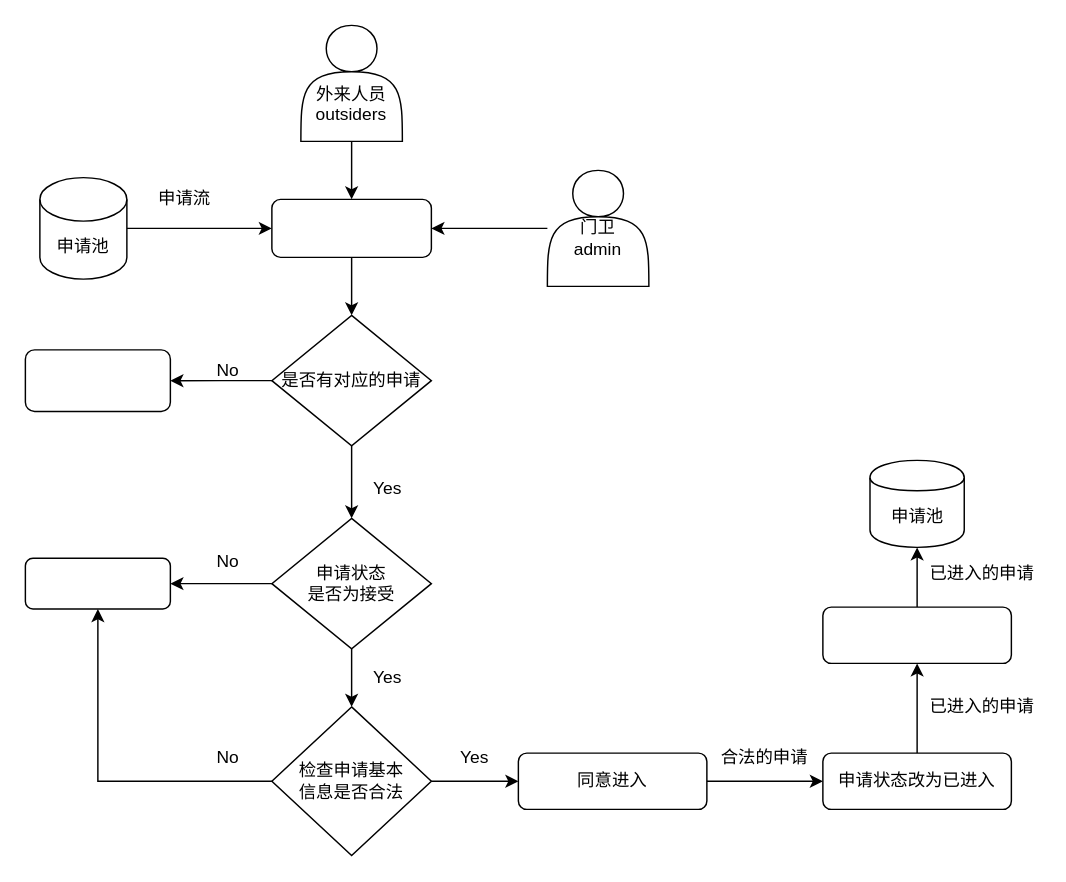
The diagram is 1066 pixels wide and 882 high, and some of its shapes have lost their labels. Each missing label, with the centre of its shape:
不与访问: the point at 97,583
更新申请实际进入时间: the point at 916,634
进入校园验证: the point at 350,227
门卫指导填写申请: the point at 97,380
